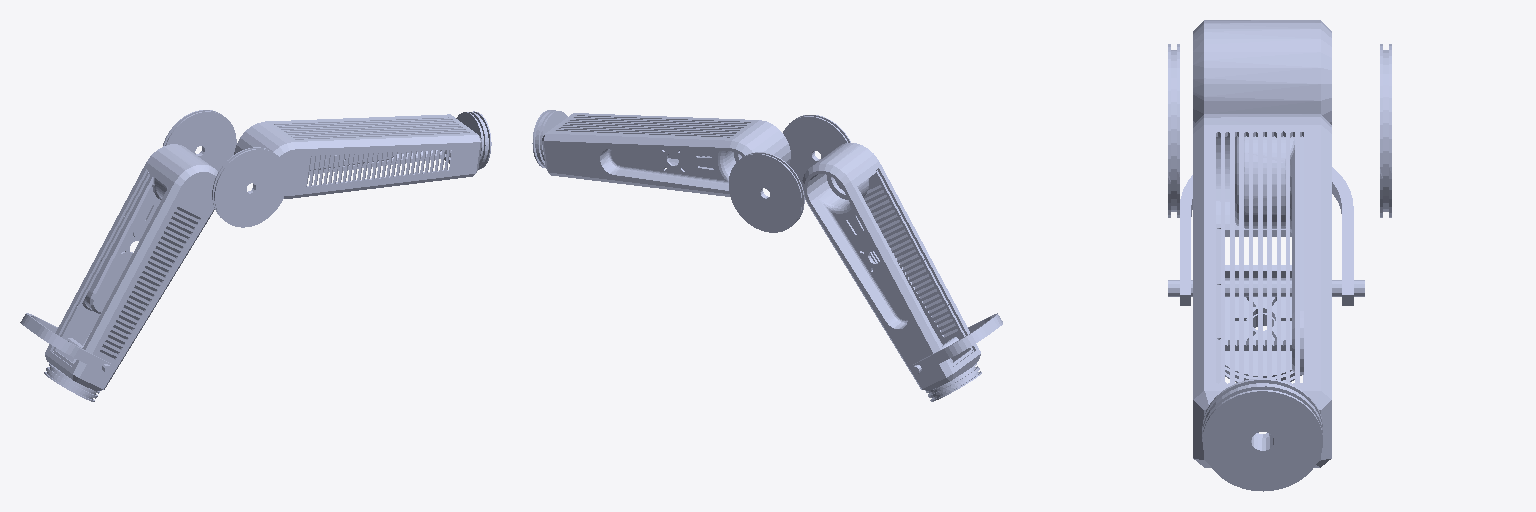
The robot description file, URDF, robot "urdf march 14 12 30":
<?xml version="1.0" encoding="utf-8"?>
<!-- This URDF was automatically created by SolidWorks to URDF Exporter! Originally created by [author] ([email redacted]) 
     Commit Version: 1.6.0-4-g7f85cfe  Build Version: 1.6.7995.38578
     For more information, please see http://wiki.ros.org/sw_urdf_exporter -->
<robot
  name="urdf march 14 12 30">
  <link
    name="base_link">
    <inertial>
      <origin
        xyz="0.0341048176202521 -0.0854022801942358 0.112184795428881"
        rpy="0 0 0" />
      <mass
        value="0.770945367382026" />
      <inertia
        ixx="0.00273358105534265"
        ixy="-2.07339807416282E-06"
        ixz="-3.65047907064545E-06"
        iyy="0.00513194515572194"
        iyz="-7.37449664191244E-05"
        izz="0.00619154781631375" />
    </inertial>
    <visual>
      <origin
        xyz="0 0 0"
        rpy="0 0 0" />
      <geometry>
        <mesh
          filename="package://urdf march 14 12 30/meshes/base_link.STL" />
      </geometry>
      <material
        name="">
        <color
          rgba="0.792156862745098 0.819607843137255 0.933333333333333 1" />
      </material>
    </visual>
    <collision>
      <origin
        xyz="0 0 0"
        rpy="0 0 0" />
      <geometry>
        <mesh
          filename="package://urdf march 14 12 30/meshes/base_link.STL" />
      </geometry>
    </collision>
  </link>
  <link
    name="arm right">
    <inertial>
      <origin
        xyz="0.15084202744169 -0.00168158605169708 -0.0575655113547174"
        rpy="0 0 0" />
      <mass
        value="0.926237846830628" />
      <inertia
        ixx="0.00257944310336004"
        ixy="4.79212402815417E-05"
        ixz="-0.000188335135243542"
        iyy="0.0206279692996362"
        iyz="2.2072908895309E-06"
        izz="0.0200980410586034" />
    </inertial>
    <visual>
      <origin
        xyz="0 0 0"
        rpy="0 0 0" />
      <geometry>
        <mesh
          filename="package://urdf march 14 12 30/meshes/arm right.STL" />
      </geometry>
      <material
        name="">
        <color
          rgba="0.792156862745098 0.819607843137255 0.933333333333333 1" />
      </material>
    </visual>
    <collision>
      <origin
        xyz="0 0 0"
        rpy="0 0 0" />
      <geometry>
        <mesh
          filename="package://urdf march 14 12 30/meshes/arm right.STL" />
      </geometry>
    </collision>
  </link>
  <joint
    name="pitch1_1"
    type="revolute">
    <origin
      xyz="0.12909 -0.060516 0.11483"
      rpy="-1.5708 0.15538 0" />
    <parent
      link="base_link" />
    <child
      link="arm right" />
    <axis
      xyz="0 0 -1" />
    <limit
      lower="0"
      upper="0"
      effort="0"
      velocity="0" />
  </joint>
  <link
    name="wheel2_1">
    <inertial>
      <origin
        xyz="9.71445146547012E-16 -0.00952103577802466 1.94289029309402E-16"
        rpy="0 0 0" />
      <mass
        value="0.148096749357929" />
      <inertia
        ixx="0.000100668249901381"
        ixy="4.40127135423607E-20"
        ixz="0"
        iyy="0.00019126897599345"
        iyz="-5.51382022305678E-20"
        izz="0.000100668249901381" />
    </inertial>
    <visual>
      <origin
        xyz="0 0 0"
        rpy="0 0 0" />
      <geometry>
        <mesh
          filename="package://urdf march 14 12 30/meshes/wheel2_1.STL" />
      </geometry>
      <material
        name="">
        <color
          rgba="0.792156862745098 0.819607843137255 0.933333333333333 1" />
      </material>
    </visual>
    <collision>
      <origin
        xyz="0 0 0"
        rpy="0 0 0" />
      <geometry>
        <mesh
          filename="package://urdf march 14 12 30/meshes/wheel2_1.STL" />
      </geometry>
    </collision>
  </link>
  <joint
    name="roll2_1"
    type="revolute">
    <origin
      xyz="0.3983 -0.0073285 -0.059842"
      rpy="3.1416 0.77615 -1.5708" />
    <parent
      link="arm right" />
    <child
      link="wheel2_1" />
    <axis
      xyz="0 -1 0" />
    <limit
      lower="0"
      upper="0"
      effort="0"
      velocity="0" />
  </joint>
  <link
    name="arm left">
    <inertial>
      <origin
        xyz="0.152679910134276 -0.00166601977376087 -0.0854762224570385"
        rpy="0 0 0" />
      <mass
        value="0.93489711552363" />
      <inertia
        ixx="0.00262506294260495"
        ixy="4.5045052729561E-05"
        ixz="-0.000203823345135262"
        iyy="0.0210001253491258"
        iyz="2.07100754900794E-06"
        izz="0.0204248719773236" />
    </inertial>
    <visual>
      <origin
        xyz="0 0 0"
        rpy="0 0 0" />
      <geometry>
        <mesh
          filename="package://urdf march 14 12 30/meshes/arm left.STL" />
      </geometry>
      <material
        name="">
        <color
          rgba="0.792156862745098 0.819607843137255 0.933333333333333 1" />
      </material>
    </visual>
    <collision>
      <origin
        xyz="0 0 0"
        rpy="0 0 0" />
      <geometry>
        <mesh
          filename="package://urdf march 14 12 30/meshes/arm left.STL" />
      </geometry>
    </collision>
  </link>
  <joint
    name="pitch1_2"
    type="revolute">
    <origin
      xyz="-0.0609056319435783 -0.032516092037392 0.114827219918103"
      rpy="1.5707963267949 0.963061067969326 -3.14159265358979" />
    <parent
      link="base_link" />
    <child
      link="arm left" />
    <axis
      xyz="0 0 -1" />
    <limit
      lower="0"
      upper="0"
      effort="0"
      velocity="0" />
  </joint>
  <link
    name="wheel2_2">
    <inertial>
      <origin
        xyz="0 -0.0770451287998548 -1.94289029309402E-16"
        rpy="0 0 0" />
      <mass
        value="0.148096749357929" />
      <inertia
        ixx="0.000100668249901381"
        ixy="5.09022231343551E-20"
        ixz="3.3881317890172E-21"
        iyy="0.00019126897599345"
        iyz="2.22900590588854E-19"
        izz="0.000100668249901381" />
    </inertial>
    <visual>
      <origin
        xyz="0 0 0"
        rpy="0 0 0" />
      <geometry>
        <mesh
          filename="package://urdf march 14 12 30/meshes/wheel2_2.STL" />
      </geometry>
      <material
        name="">
        <color
          rgba="0.792156862745098 0.819607843137255 0.933333333333333 1" />
      </material>
    </visual>
    <collision>
      <origin
        xyz="0 0 0"
        rpy="0 0 0" />
      <geometry>
        <mesh
          filename="package://urdf march 14 12 30/meshes/wheel2_2.STL" />
      </geometry>
    </collision>
  </link>
  <joint
    name="roll2_2"
    type="revolute">
    <origin
      xyz="0.330776432232011 -0.0073285045559196 -0.0878423977514851"
      rpy="3.14159265358979 0.549642206871802 -1.5707963267949" />
    <parent
      link="arm left" />
    <child
      link="wheel2_2" />
    <axis
      xyz="0 -1 0" />
    <limit
      lower="0"
      upper="0"
      effort="0"
      velocity="0" />
  </joint>
  <link
    name="camera link">
    <inertial>
      <origin
        xyz="0.0750000000000002 0.0240008404455233 -0.0722116614097177"
        rpy="0 0 0" />
      <mass
        value="0.0698816348006093" />
      <inertia
        ixx="0.000124456436337246"
        ixy="5.07918281694902E-19"
        ixz="3.59457051212383E-20"
        iyy="0.000353119952046611"
        iyz="3.58151791955835E-05"
        izz="0.00025726614282108" />
    </inertial>
    <visual>
      <origin
        xyz="0 0 0"
        rpy="0 0 0" />
      <geometry>
        <mesh
          filename="package://urdf march 14 12 30/meshes/camera link.STL" />
      </geometry>
      <material
        name="">
        <color
          rgba="0.792156862745098 0.819607843137255 0.933333333333333 1" />
      </material>
    </visual>
    <collision>
      <origin
        xyz="0 0 0"
        rpy="0 0 0" />
      <geometry>
        <mesh
          filename="package://urdf march 14 12 30/meshes/camera link.STL" />
      </geometry>
    </collision>
  </link>
  <joint
    name="pitch3_1"
    type="revolute">
    <origin
      xyz="0.349275314195647 0 -0.00950000000000037"
      rpy="1.23269270214181 1.5707963267949 0" />
    <parent
      link="arm left" />
    <child
      link="camera link" />
    <axis
      xyz="1 0 0" />
    <limit
      lower="0"
      upper="0"
      effort="0"
      velocity="0" />
  </joint>
  <link
    name="wheelcentre1">
    <inertial>
      <origin
        xyz="-6.93889390390723E-18 -5.55111512312578E-17 0.00499999999998527"
        rpy="0 0 0" />
      <mass
        value="0.162184720741573" />
      <inertia
        ixx="0.000219883669596311"
        ixy="2.5410988417629E-21"
        ixz="2.3028350281132E-22"
        iyy="0.000219883669596311"
        iyz="2.26054340074541E-23"
        izz="0.000436921907036522" />
    </inertial>
    <visual>
      <origin
        xyz="0 0 0"
        rpy="0 0 0" />
      <geometry>
        <mesh
          filename="package://urdf march 14 12 30/meshes/wheelcentre1.STL" />
      </geometry>
      <material
        name="">
        <color
          rgba="0.792156862745098 0.819607843137255 0.933333333333333 1" />
      </material>
    </visual>
    <collision>
      <origin
        xyz="0 0 0"
        rpy="0 0 0" />
      <geometry>
        <mesh
          filename="package://urdf march 14 12 30/meshes/wheelcentre1.STL" />
      </geometry>
    </collision>
  </link>
  <joint
    name="roll1_1"
    type="revolute">
    <origin
      xyz="0.0339714708239965 -0.00951609203739177 0.114827219918101"
      rpy="1.5707963267949 0.0642886543637993 0" />
    <parent
      link="base_link" />
    <child
      link="wheelcentre1" />
    <axis
      xyz="0 0 -1" />
    <limit
      lower="0"
      upper="0"
      effort="0"
      velocity="0" />
  </joint>
  <link
    name="wheelcentre2">
    <inertial>
      <origin
        xyz="0 -2.77555756156289E-17 0.00499999999998529"
        rpy="0 0 0" />
      <mass
        value="0.162184720741573" />
      <inertia
        ixx="0.000219883669596311"
        ixy="6.7762635780344E-21"
        ixz="-5.42049942532151E-23"
        iyy="0.000219883669596311"
        iyz="4.70651748977798E-23"
        izz="0.000436921907036522" />
    </inertial>
    <visual>
      <origin
        xyz="0 0 0"
        rpy="0 0 0" />
      <geometry>
        <mesh
          filename="package://urdf march 14 12 30/meshes/wheelcentre2.STL" />
      </geometry>
      <material
        name="">
        <color
          rgba="0.792156862745098 0.819607843137255 0.933333333333333 1" />
      </material>
    </visual>
    <collision>
      <origin
        xyz="0 0 0"
        rpy="0 0 0" />
      <geometry>
        <mesh
          filename="package://urdf march 14 12 30/meshes/wheelcentre2.STL" />
      </geometry>
    </collision>
  </link>
  <joint
    name="roll1_2"
    type="revolute">
    <origin
      xyz="0.033971 -0.19152 0.11483"
      rpy="1.5708 0.13085 0" />
    <parent
      link="base_link" />
    <child
      link="wheelcentre2" />
    <axis
      xyz="0 0 -1" />
    <limit
      lower="0"
      upper="0"
      effort="0"
      velocity="0" />
  </joint>
</robot>

--- Facts derived from the render (not from the file) ---
The picture shows the robot from 3 angles, left to right: view 1: azimuth 30°, elevation 25°; view 2: azimuth 150°, elevation 25°; view 3: azimuth 270°, elevation 25°; orthographic projection.
Robot: urdf march 14 12 30 — 8 links, 7 joints (7 revolute); root link base_link; default pose: every joint at zero.
Visible links, largest first — view 1: arm left, arm right, wheelcentre2, wheelcentre1, camera link, wheel2_1, wheel2_2; view 2: arm left, arm right, wheelcentre1, wheelcentre2, camera link, wheel2_1, wheel2_2; view 3: arm right, arm left, wheel2_1, camera link, wheelcentre1, wheelcentre2, wheel2_2.
Boxes of the visible links, x1=… form: arm left: x1=45, y1=144, x2=217, y2=391; arm right: x1=234, y1=114, x2=481, y2=198; wheelcentre2: x1=212, y1=147, x2=287, y2=227; wheelcentre1: x1=163, y1=110, x2=236, y2=171; camera link: x1=20, y1=313, x2=112, y2=374; wheel2_1: x1=456, y1=111, x2=491, y2=169; wheel2_2: x1=44, y1=363, x2=99, y2=401; arm left: x1=802, y1=143, x2=980, y2=390; arm right: x1=542, y1=113, x2=790, y2=196; wheelcentre1: x1=729, y1=152, x2=804, y2=232; wheelcentre2: x1=783, y1=115, x2=850, y2=183; camera link: x1=911, y1=313, x2=1002, y2=375; wheel2_1: x1=532, y1=110, x2=567, y2=167; wheel2_2: x1=926, y1=363, x2=981, y2=401; arm right: x1=1193, y1=114, x2=1331, y2=467; arm left: x1=1168, y1=20, x2=1364, y2=350; wheel2_1: x1=1202, y1=378, x2=1322, y2=491; camera link: x1=1180, y1=167, x2=1353, y2=305; wheelcentre1: x1=1380, y1=44, x2=1391, y2=217; wheelcentre2: x1=1168, y1=44, x2=1179, y2=217; wheel2_2: x1=1225, y1=301, x2=1301, y2=382.
Size in the robot's own frame: 0.921 by 0.192 by 0.4519 metres.
7 mesh visuals loaded from 8 distinct referenced files (7 binary STL); not drawn: 1 (reference not matched to a file when rendering).